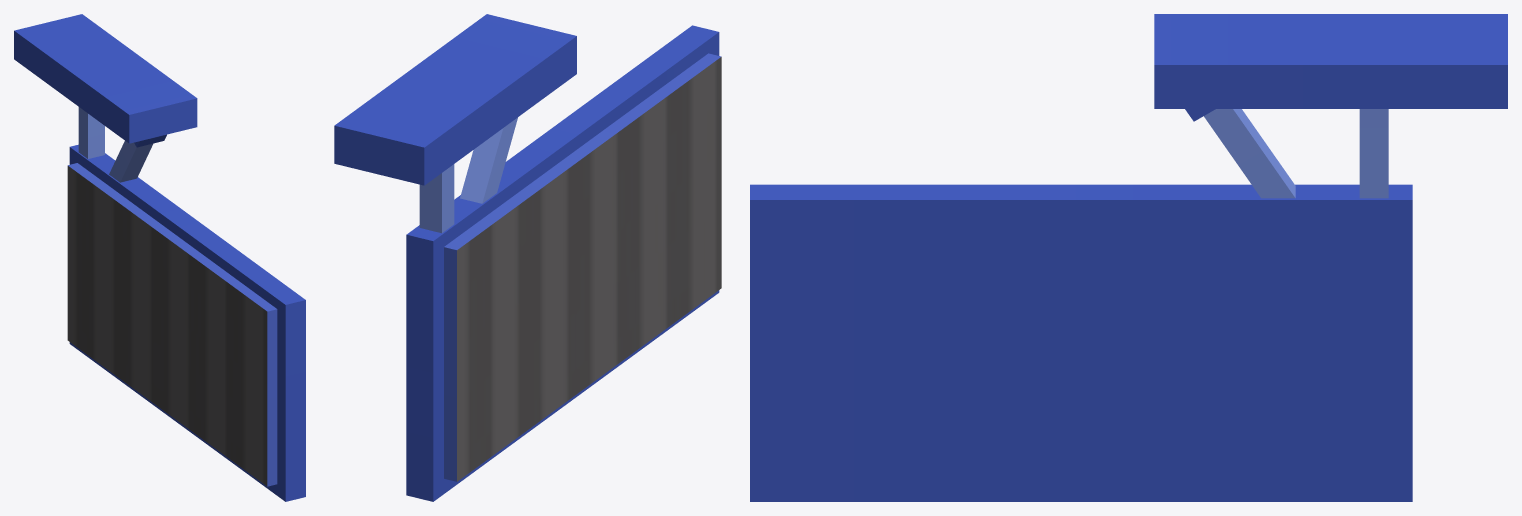
Rendered from SignProp_1_B_1.fbx.
The picture shows the model from 3 angles, left to right: view 1: azimuth 30°, elevation 25°; view 2: azimuth 150°, elevation 25°; view 3: azimuth 270°, elevation 25°; orthographic projection. The views are drawn at different scales.
Parts seen in each view (by area): view 1: SignProp_1_B_1; view 2: SignProp_1_B_1; view 3: SignProp_1_B_1.
Part boxes in pixels (left/top/right/bottom): SignProp_1_B_1: left=14, top=14, right=305, bottom=501; SignProp_1_B_1: left=334, top=14, right=721, bottom=501; SignProp_1_B_1: left=750, top=14, right=1507, bottom=501.
Bounding box in the file's own units: 20.79 × 86.49 × 131.
